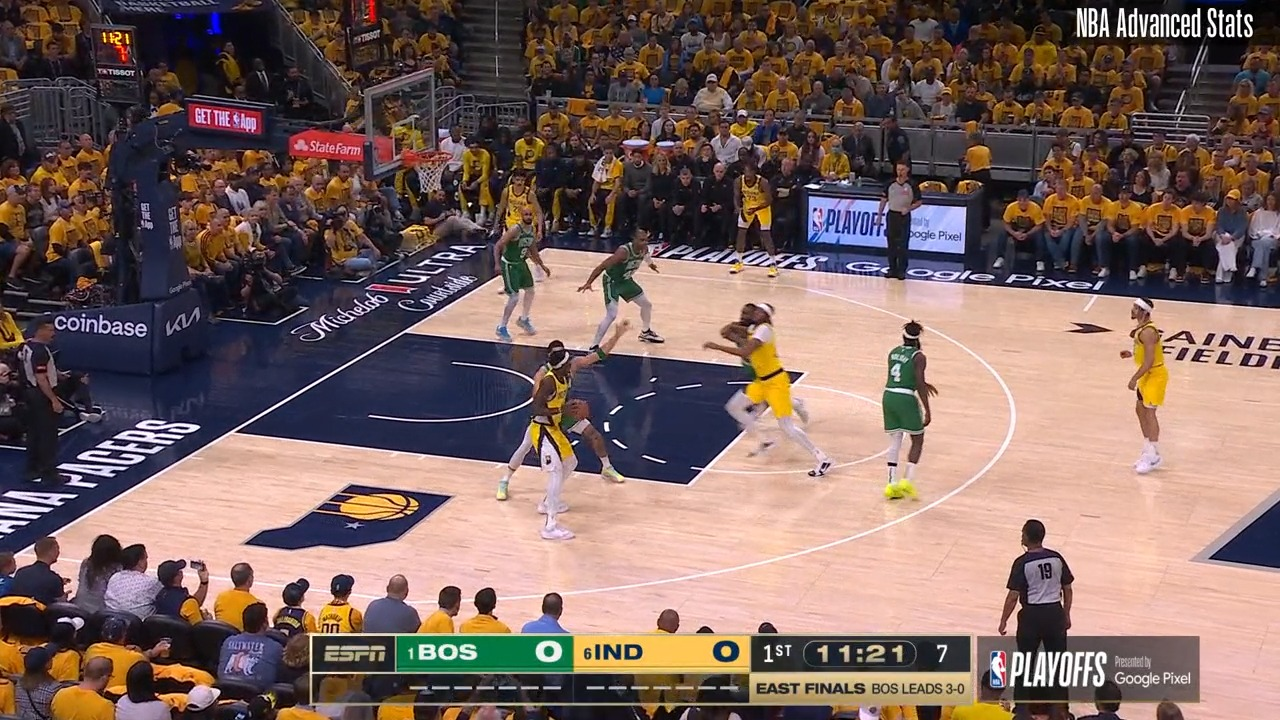basketball: (566, 396, 594, 424)
